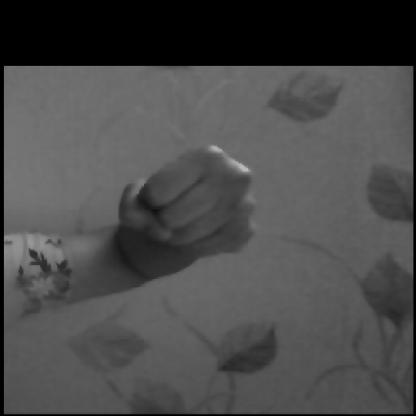fist: (84, 121, 292, 298)
